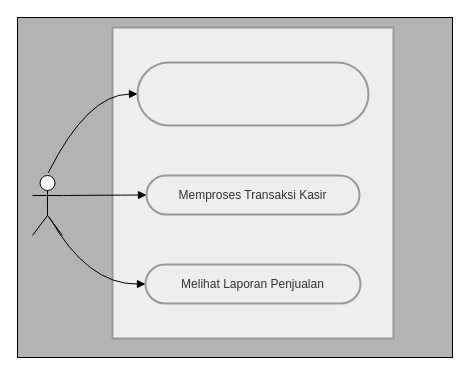
Some shapes in this 470 by 375 pixel diagram are drawn without their labels. Each missing label, with the centre of its shape:
"Actor" belongs at (47,205).
"Menjalankan Seeder / Inisiasi Data" belongs at (252,93).
